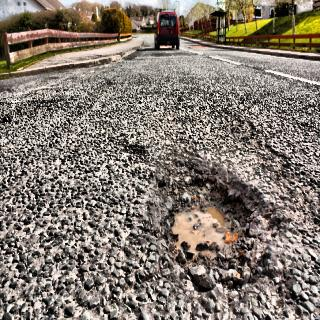pothole: (158, 157, 284, 287)
